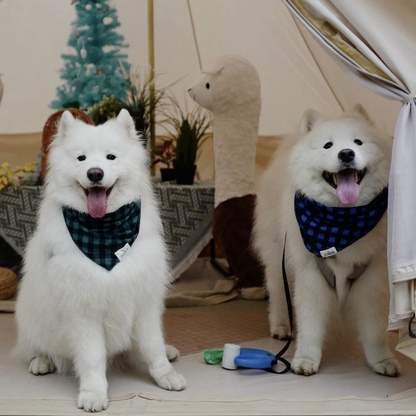samoyed: (10, 103, 198, 416), (249, 100, 416, 384)
